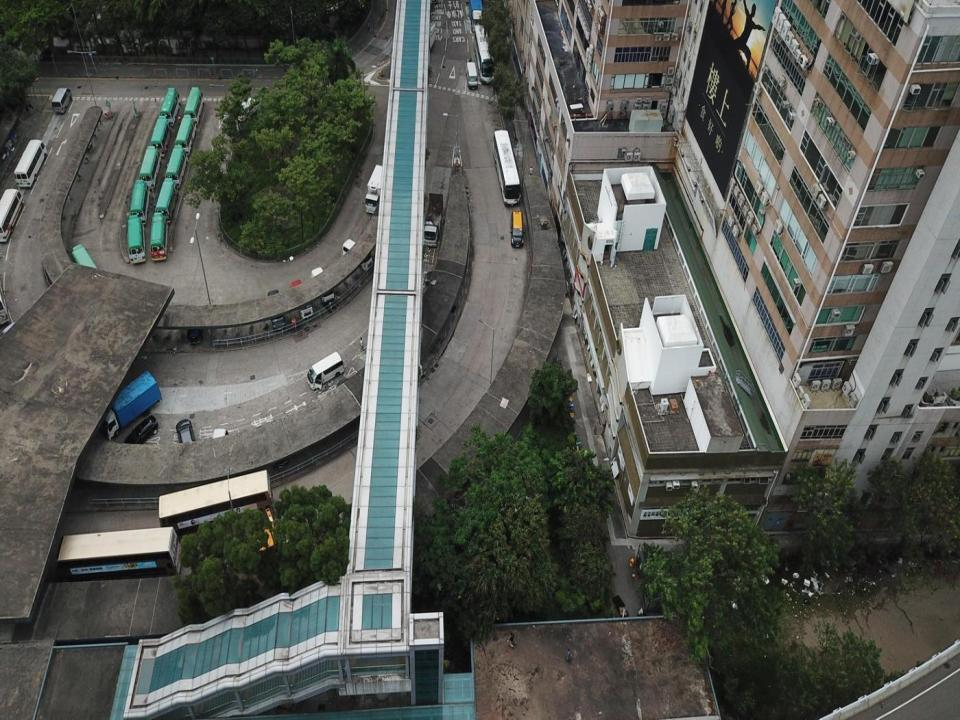bus: (153, 468, 287, 531), (50, 525, 182, 580), (490, 128, 523, 206), (12, 137, 51, 191), (68, 240, 104, 289), (305, 348, 346, 391), (0, 184, 27, 244), (472, 24, 498, 82), (126, 213, 148, 266), (148, 214, 172, 262), (127, 179, 152, 223), (155, 179, 181, 221), (165, 148, 191, 186), (138, 144, 162, 184), (182, 85, 206, 123), (150, 115, 171, 156), (158, 84, 179, 121), (175, 118, 197, 151)
car: (122, 412, 160, 452), (172, 417, 202, 459)
truck: (95, 368, 168, 442), (416, 193, 448, 249), (361, 164, 388, 219)
van: (336, 235, 364, 278), (265, 280, 284, 334), (291, 280, 312, 324), (507, 209, 526, 250), (313, 269, 334, 303), (51, 85, 73, 114), (464, 61, 480, 92)
